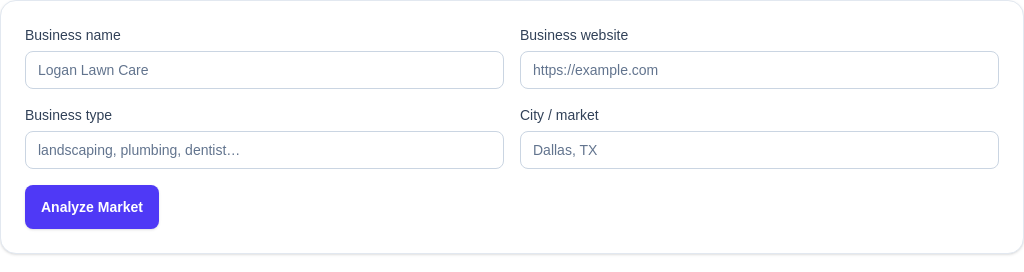
Scenario: BusinessForm › accepts a bare domain and submits it as https://
Type "Acme Plumbing" into the field with placeholder "Logan Lawn Care" at (264, 70), box [25, 51, 504, 89]
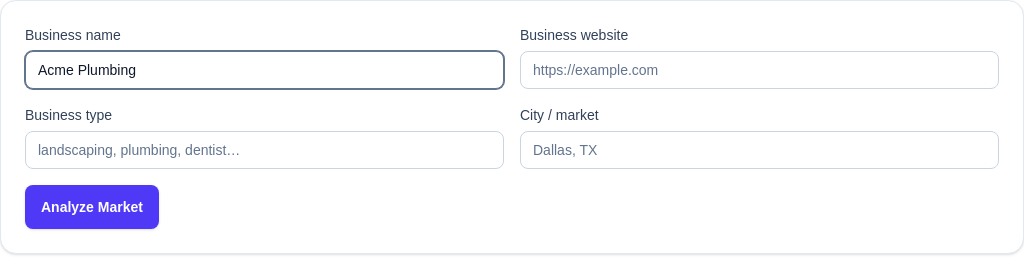
Type "acme.example.org" into the field with placeholder "https://example.com" at (760, 70), box [520, 51, 999, 89]
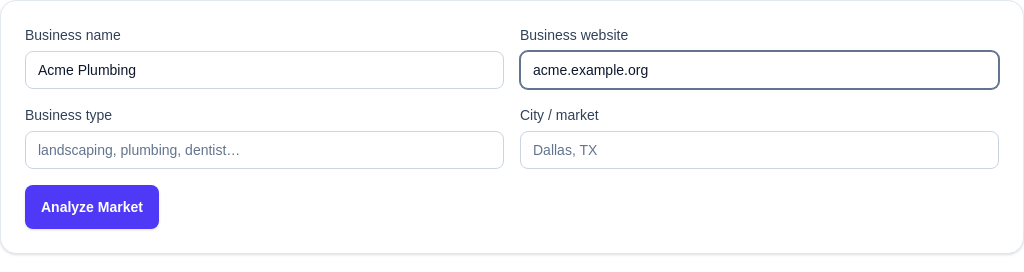
Type "plumbing" into the field with placeholder "landscaping, plumbing, dentist…" at (264, 150), box [25, 131, 504, 169]
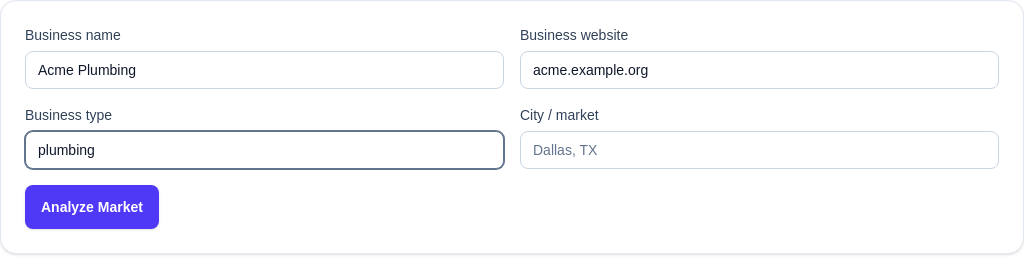
Type "Austin, TX" into the field with placeholder "Dallas, TX" at (760, 150), box [520, 131, 999, 169]
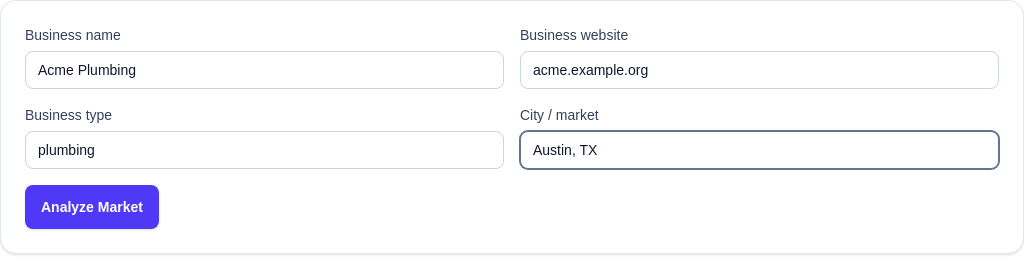
Click the button "Analyze Market" at (92, 207), box [25, 185, 159, 229]
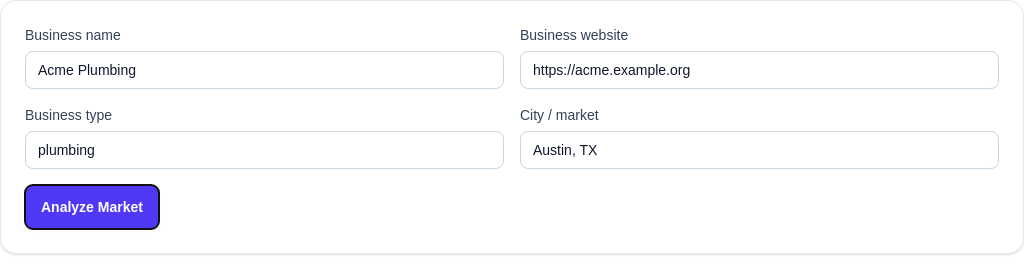
Check: the field labelled "Business website" holds "https://acme.example.org", box [520, 51, 999, 89]
